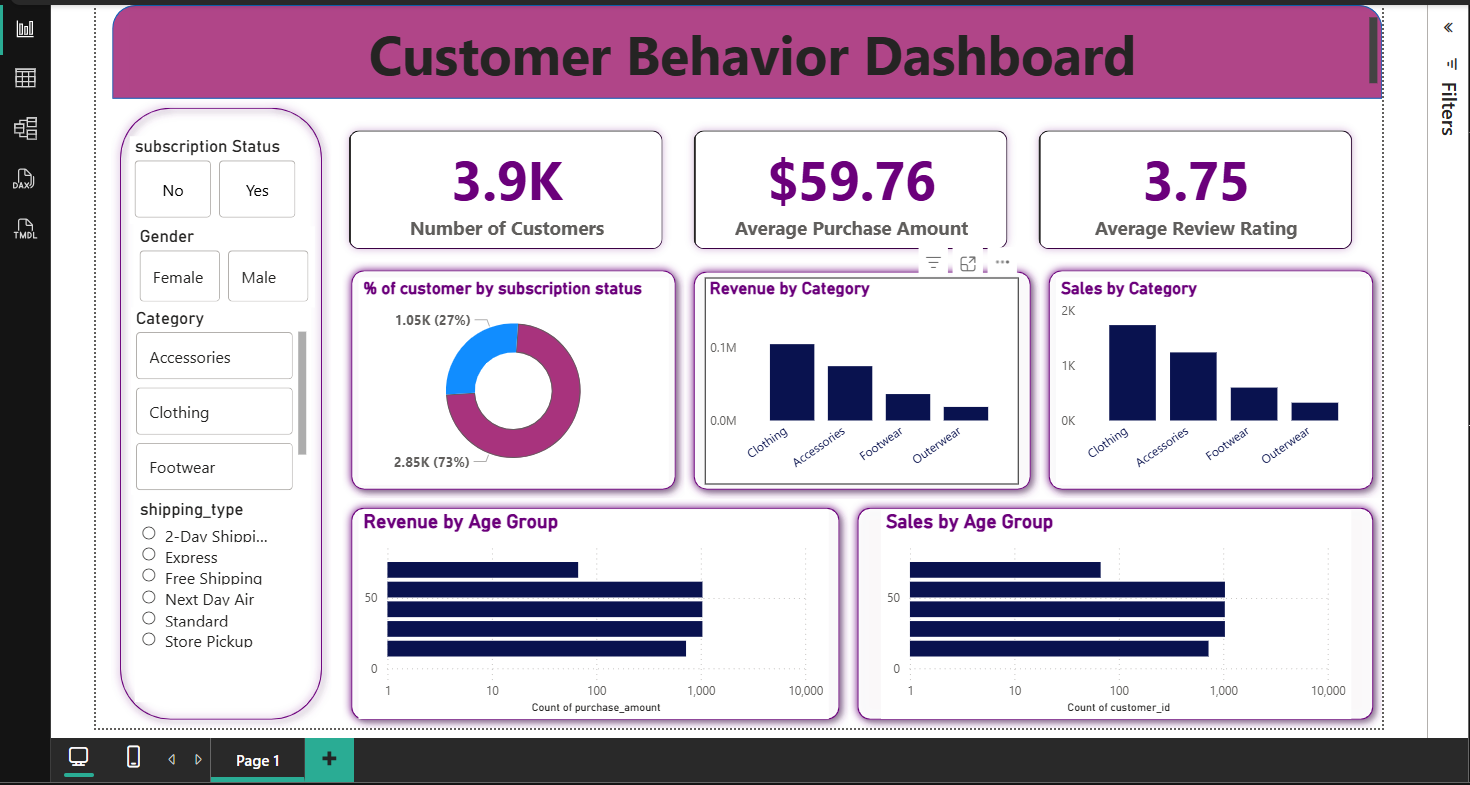

The dashboard page shown, as its layout file describes it:
{"tool":"powerbi","page":{"name":"Page 1","canvas":[1280,720],"ordinal":0},"visuals":[{"type":"cardVisual","fields":{"Data":["customer_behavior customer.Number of Customers","customer_behavior customer.Average Purchase Amount","customer_behavior customer.Average Review Rating"]},"box":[223.9,97,1056.1,174.2],"z":0},{"type":"shape","box":[16.2,0,1263.9,93.3],"z":1000},{"type":"textbox","box":[33.6,7.5,1246.4,78.4],"z":2000},{"type":"shape","box":[245.1,255,340.8,236.4],"z":3000},{"type":"donutChart","title":"% of  customer by subscription status","fields":{"Category":["customer_behavior customer.subscription_status"],"Y":["CountNonNull(customer_behavior customer.customer_id)"]},"box":[261.2,271.2,308.5,206.5],"z":4000},{"type":"shape","box":[585.9,256.3,353.3,235.1],"z":5000},{"type":"shape","box":[939.2,255,340.8,236.4],"z":6000},{"type":"shape","box":[14.9,93.3,218.9,627],"z":7000},{"type":"shape","box":[245.1,491.4,503.8,228.9],"z":8000},{"type":"shape","box":[748.9,491.4,531.2,228.9],"z":9000},{"type":"clusteredColumnChart","title":"Revenue by Category","fields":{"Y":["Sum(customer_behavior customer.purchase_amount)"],"Category":["customer_behavior customer.Category"]},"box":[605.8,271.2,312.2,206.5],"z":10000},{"type":"clusteredColumnChart","title":"Sales by Category","fields":{"Y":["CountNonNull(customer_behavior customer.customer_id)"],"Category":["customer_behavior customer.Category"]},"box":[955.4,271.2,312.2,206.5],"z":11000},{"type":"advancedSlicerVisual","fields":{"Values":["customer_behavior customer.subscription_status"]},"box":[33.6,130.6,171.7,87.1],"z":12000},{"type":"advancedSlicerVisual","fields":{"Values":["customer_behavior customer.subscription_status"]},"box":[465.2,644.4,12.4,12.4],"z":13000},{"type":"advancedSlicerVisual","fields":{"Values":["customer_behavior customer.Gender"]},"box":[38.6,220.2,179.1,80.9],"z":14000},{"type":"advancedSlicerVisual","fields":{"Values":["customer_behavior customer.Category"]},"box":[34.8,301,179.1,186.6],"z":15000},{"type":"listSlicer","fields":{"Values":["customer_behavior customer.shipping_type"]},"box":[38.6,491.4,145.5,202.8],"z":16000},{"type":"clusteredBarChart","title":"Revenue by Age Group","fields":{"Y":["CountNonNull(customer_behavior customer.purchase_amount)"],"Category":["customer_behavior customer.Age_group"]},"box":[261.2,502.6,467.7,207.7],"z":17000},{"type":"clusteredBarChart","title":"Sales by Age Group","fields":{"Y":["CountNonNull(customer_behavior customer.customer_id)"],"Category":["customer_behavior customer.Age_group"]},"box":[781.2,502.6,467.7,207.7],"z":18000}]}

Visuals, with their boxes on the page's 1280x720 design canvas (x1, y1, x2, y2). These are canvas units, not pixel positions in the 1470x785 screenshot, which may show the page scaled, cropped or inside an application window:
cardVisual - customer_behavior customer.Number of Customers x customer_behavior customer.Average Purchase Amount: <box>224,97,1280,271</box>
shape: <box>16,0,1280,93</box>
textbox: <box>34,8,1280,86</box>
shape: <box>245,255,586,491</box>
"% of  customer by subscription status" donutChart: <box>261,271,570,478</box>
shape: <box>586,256,939,491</box>
shape: <box>939,255,1280,491</box>
shape: <box>15,93,234,720</box>
shape: <box>245,491,749,720</box>
shape: <box>749,491,1280,720</box>
"Revenue by Category" clusteredColumnChart: <box>606,271,918,478</box>
"Sales by Category" clusteredColumnChart: <box>955,271,1268,478</box>
advancedSlicerVisual - customer_behavior customer.subscription_status: <box>34,131,205,218</box>
advancedSlicerVisual - customer_behavior customer.subscription_status: <box>465,644,478,657</box>
advancedSlicerVisual - customer_behavior customer.Gender: <box>39,220,218,301</box>
advancedSlicerVisual - customer_behavior customer.Category: <box>35,301,214,488</box>
listSlicer - customer_behavior customer.shipping_type: <box>39,491,184,694</box>
"Revenue by Age Group" clusteredBarChart: <box>261,503,729,710</box>
"Sales by Age Group" clusteredBarChart: <box>781,503,1249,710</box>
